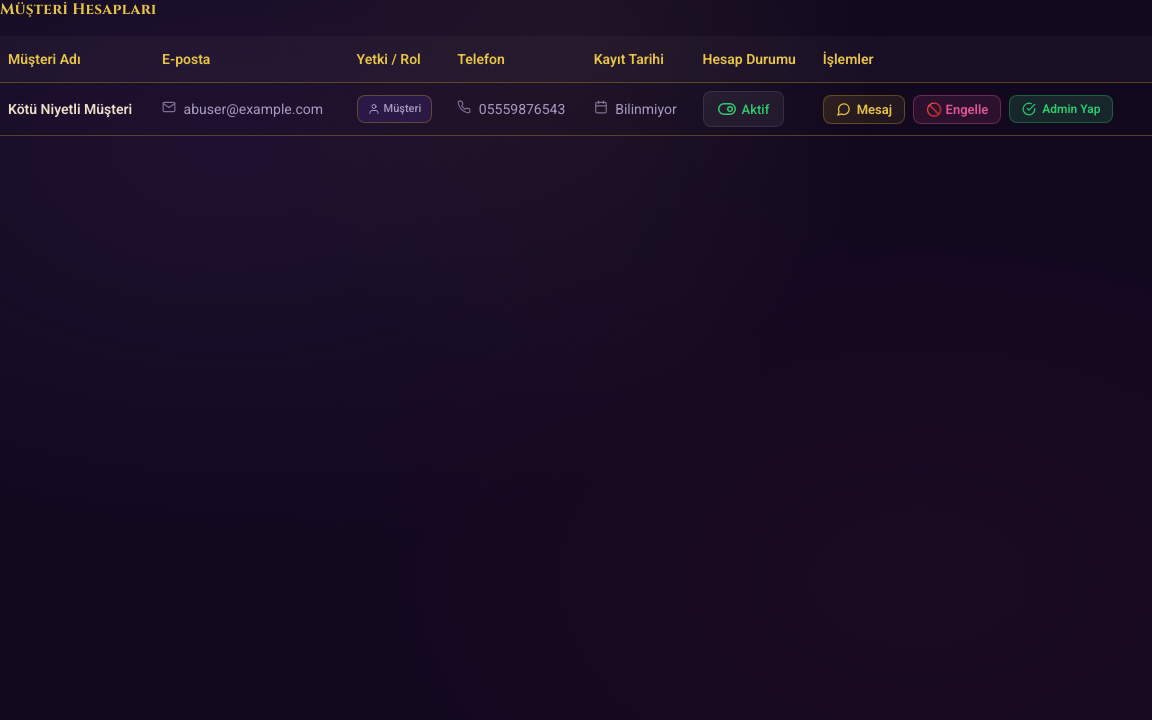
Test case: Muhristan Anti-Abuse & Ban Frontend Integration Test Suite › E, F, G, H, I, K: AbuseBanModal Controls & Flows › E: CustomersSection üzerinde "Engelle" butonuna basılınca modal açılır
The image size is (1152, 720).
Click the button with aria-label "Kötü Niyetli Müşteri adlı kullanıcıyı engelle": (957, 109) [913, 95, 1001, 124]
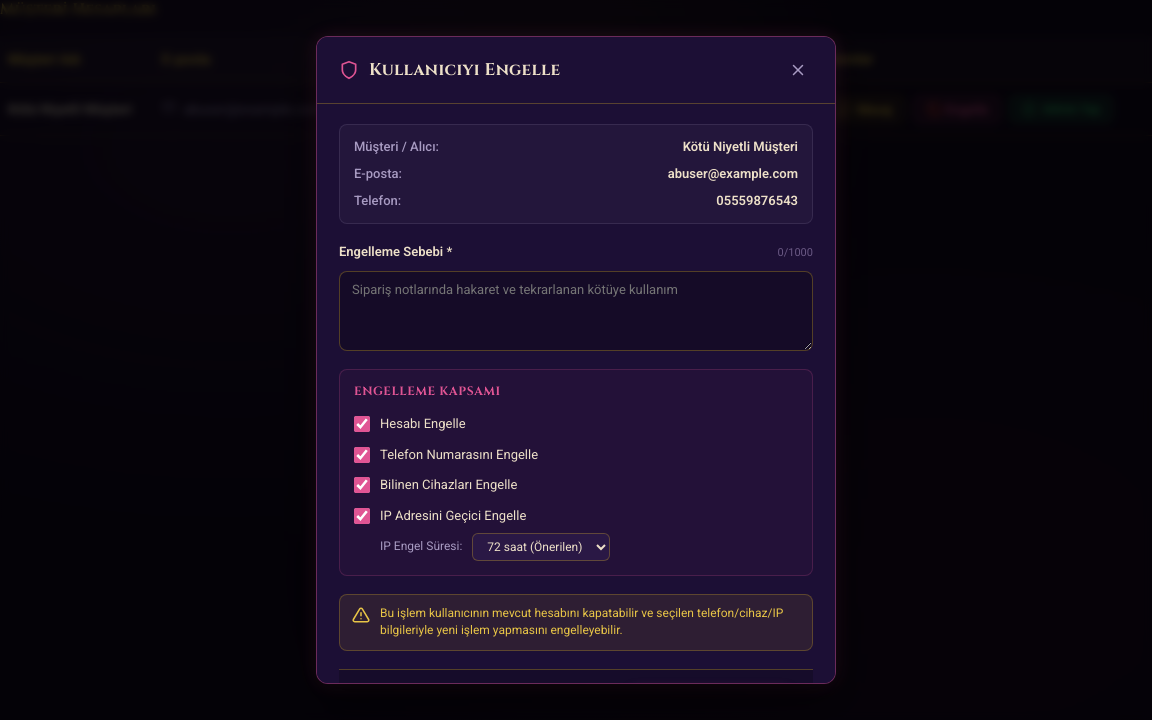
Result: the heading "Kullanıcıyı Engelle" is shown at [369, 59, 560, 81]
